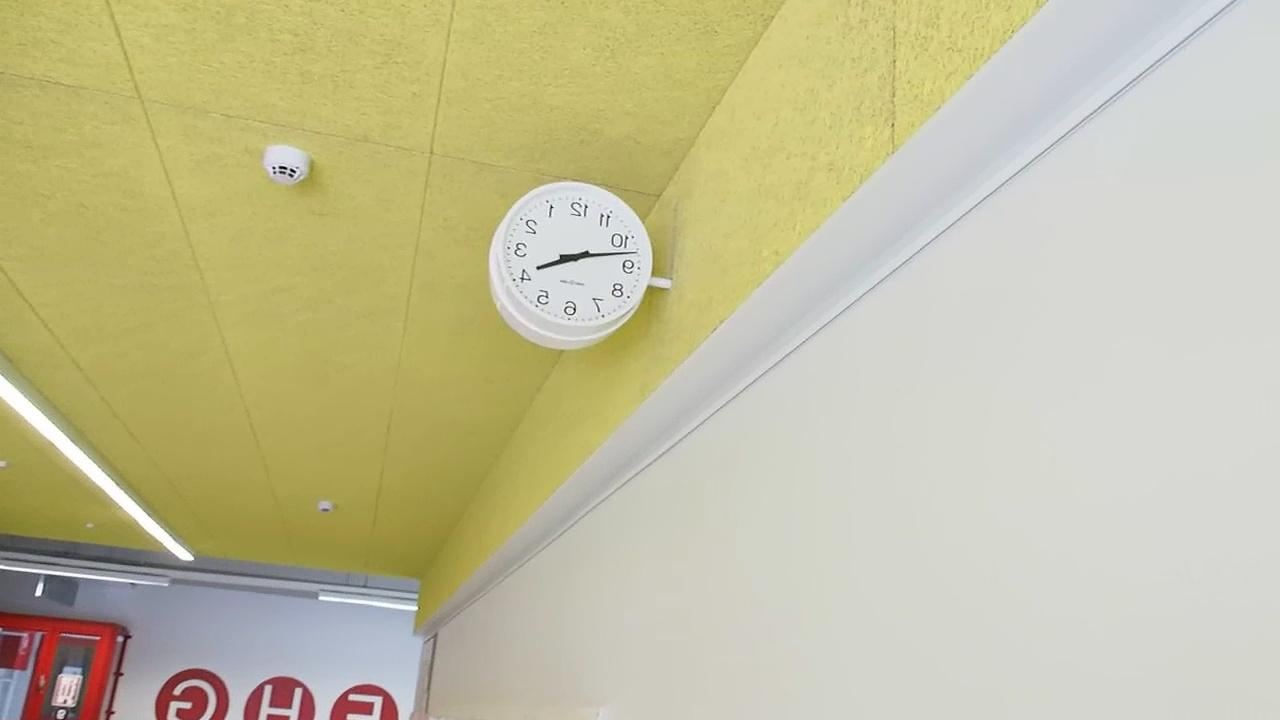clock: (488, 179, 654, 351)
